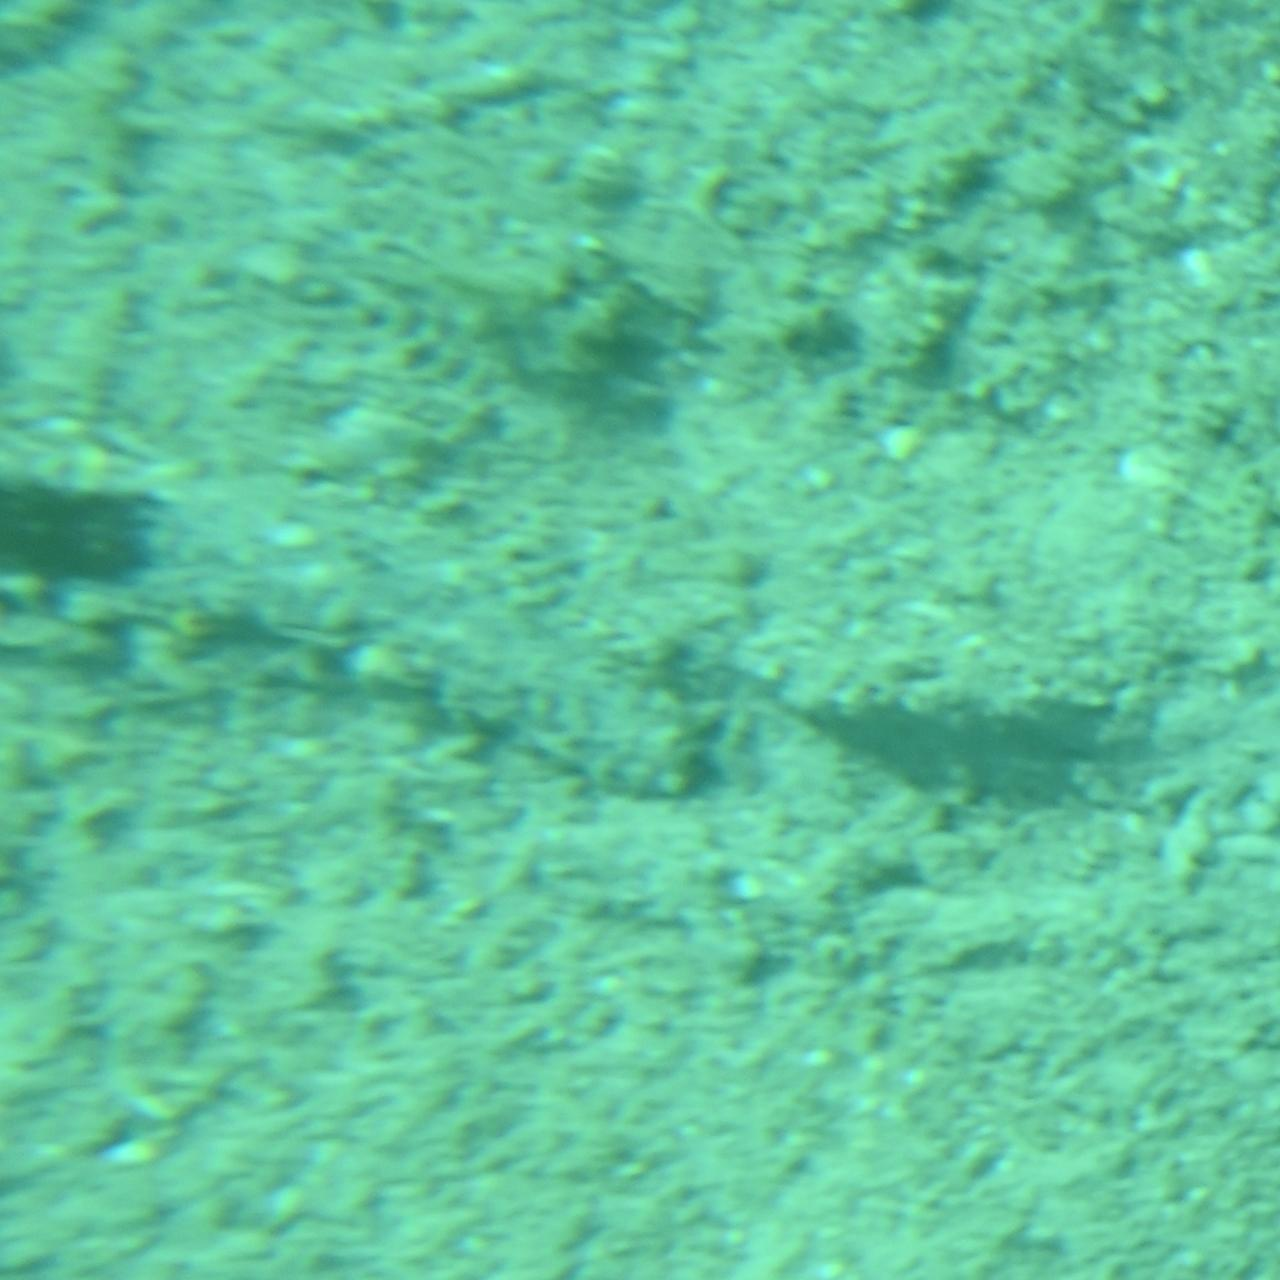Holothuria tubulosa: (132, 463, 736, 817)
